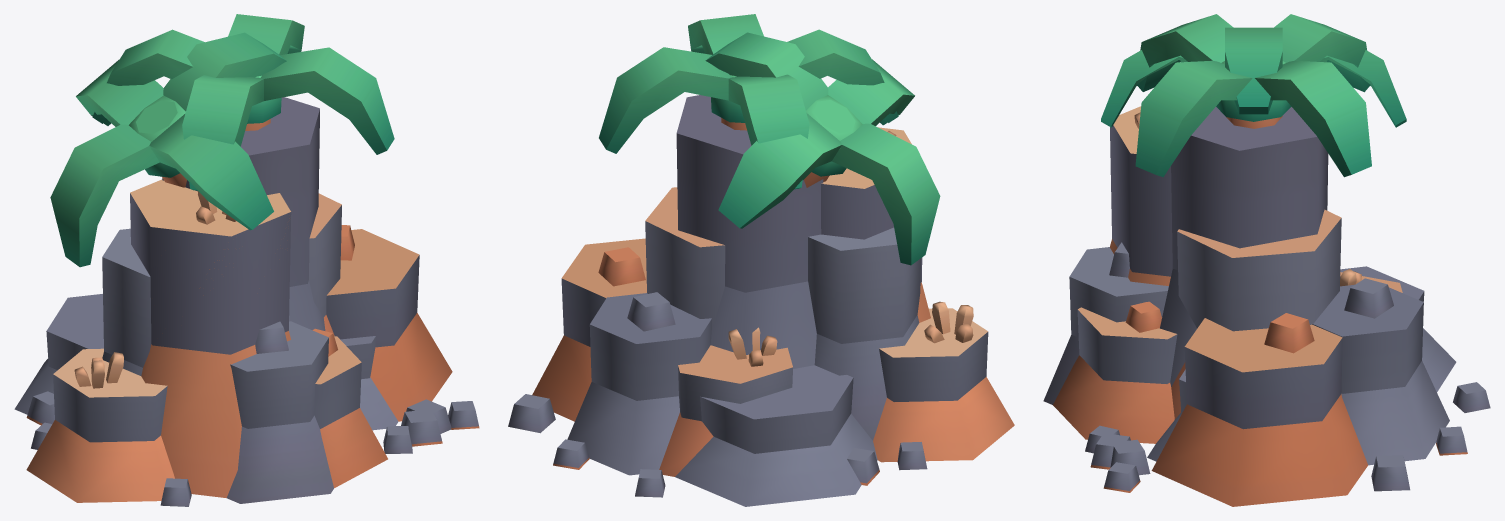
The model's file is ocean-kit.glb.
The picture shows the model from 3 angles, left to right: view 1: azimuth 30°, elevation 25°; view 2: azimuth 150°, elevation 25°; view 3: azimuth 270°, elevation 25°; orthographic projection.
Visible parts, largest first — view 1: rocks-sand-a, rocks-b, rocks-a, palm-bend, palm-straight; view 2: rocks-b, rocks-sand-a, palm-bend, rocks-a, palm-straight; view 3: rocks-b, rocks-sand-a, rocks-a, palm-straight, palm-bend.
Boxes of the visible parts, bbox=[...] form: rocks-sand-a: bbox=[26, 179, 479, 502]; rocks-b: bbox=[14, 97, 451, 506]; rocks-a: bbox=[27, 193, 478, 444]; palm-bend: bbox=[50, 32, 286, 267]; palm-straight: bbox=[92, 14, 394, 190]; rocks-b: bbox=[508, 95, 927, 506]; rocks-sand-a: bbox=[532, 127, 1014, 485]; palm-bend: bbox=[705, 32, 940, 265]; rocks-a: bbox=[553, 184, 988, 483]; palm-straight: bbox=[599, 14, 898, 189]; rocks-b: bbox=[1043, 107, 1490, 491]; rocks-sand-a: bbox=[1053, 106, 1467, 506]; rocks-a: bbox=[1077, 125, 1467, 491]; palm-straight: bbox=[1135, 14, 1371, 177]; palm-bend: bbox=[1101, 27, 1406, 127].
Size of the model in its own units: 5.11 by 4.25 by 4.7.
Materials: 1 (1 with a texture image).
